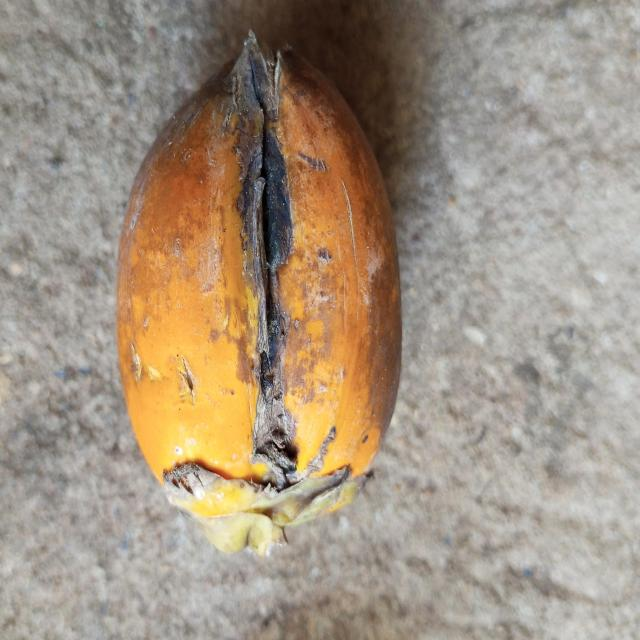damaged: (114, 31, 403, 557)
